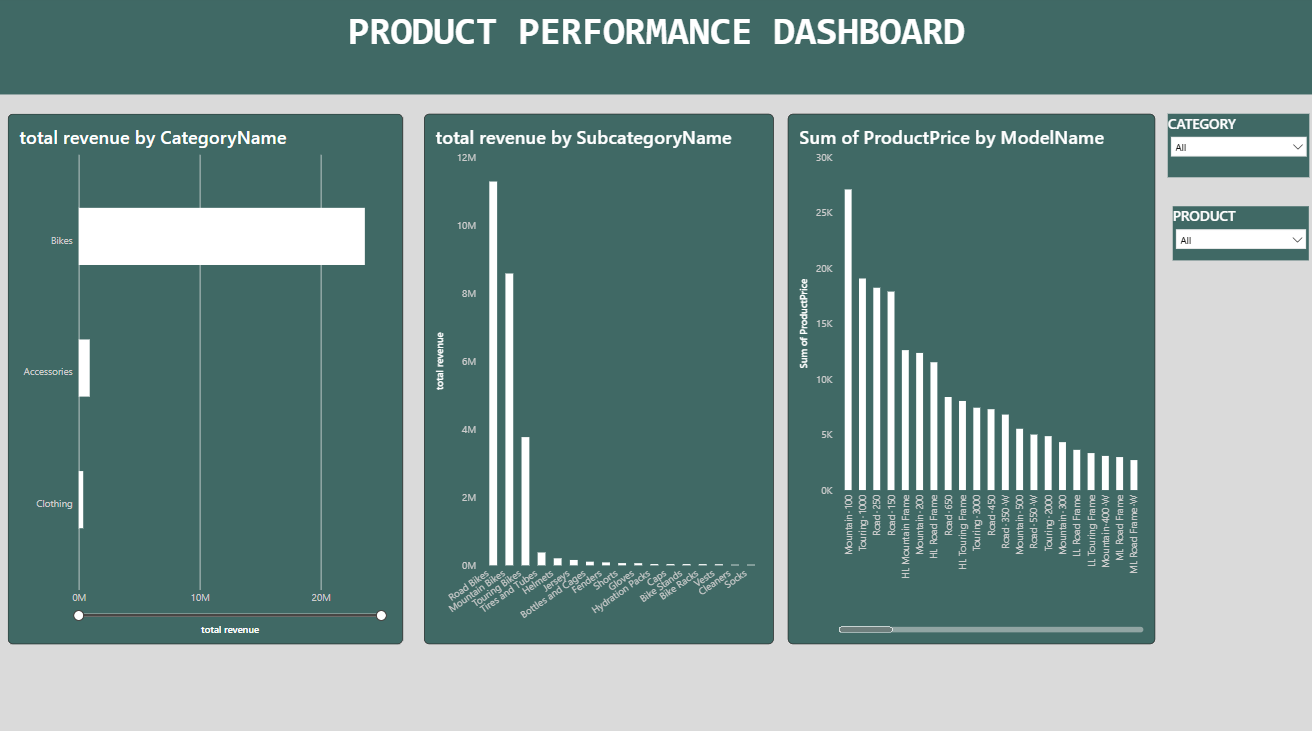

The dashboard page shown, as its layout file describes it:
{"tool":"powerbi","page":{"name":"Page 5","canvas":[1920,1080],"ordinal":4},"visuals":[{"type":"textbox","box":[10,0,1910,144],"z":0},{"type":"barChart","fields":{"Category":["Product-Categories.CategoryName"],"Y":["Calendar (1).total revenue"]},"box":[28,172,572,768],"z":1},{"type":"clusteredColumnChart","fields":{"Category":["Product-Subcategories.SubcategoryName"],"Y":["Calendar (1).total revenue"]},"box":[630,172,506,768],"z":2},{"type":"slicer","title":"CATEGORY","fields":{"Values":["Product-Categories.CategoryName"]},"box":[1706,172,206,92],"z":3},{"type":"slicer","title":"PRODUCT","fields":{"Values":["Product-Categories.ProductCategoryKey"]},"box":[1714,306,198,78],"z":4},{"type":"columnChart","fields":{"Category":["Products.ModelName"],"Y":["Sum(Products.ProductPrice)"]},"box":[1156,172,532,768],"z":5}]}

Visuals, with their boxes in screenshot pixels (x1, y1, x2, y2), scaled from the page's 1920x1080 canvas onto the 1312x731 screenshot:
textbox: [7, 0, 1311, 97]
barChart - Product-Categories.CategoryName x Calendar (1).total revenue: [19, 116, 410, 636]
clusteredColumnChart - Product-Subcategories.SubcategoryName x Calendar (1).total revenue: [430, 116, 776, 636]
"CATEGORY" slicer: [1166, 116, 1307, 179]
"PRODUCT" slicer: [1171, 207, 1307, 260]
columnChart - Products.ModelName x Sum(Products.ProductPrice): [790, 116, 1153, 636]
